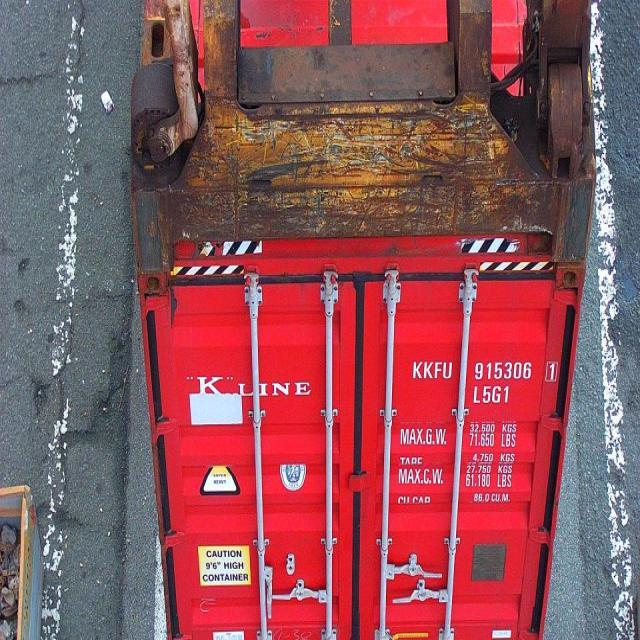ISO: (472, 384, 510, 404)
container_number: (410, 358, 550, 382)
